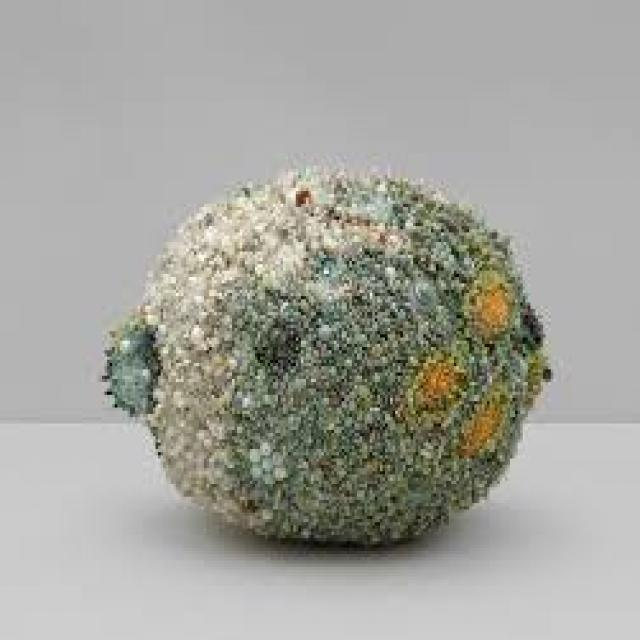organic waste: (99, 159, 551, 538)
